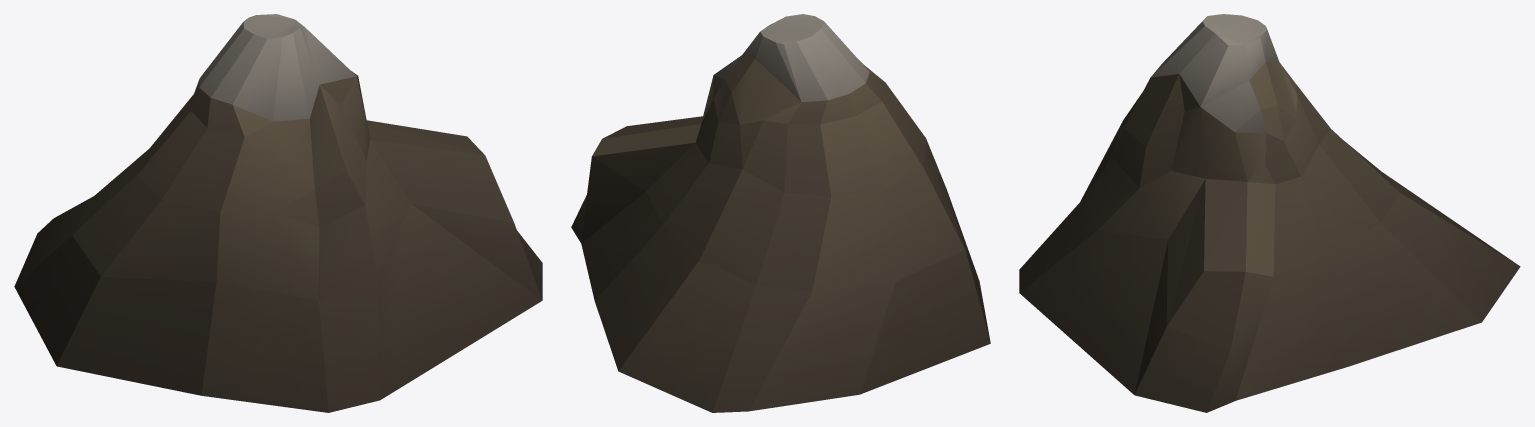
Rendered from Mountain_B.fbx.
3 renders of one model, left to right at view 1: azimuth 30°, elevation 25°; view 2: azimuth 150°, elevation 25°; view 3: azimuth 270°, elevation 25°, orthographic. The views are drawn at different scales.
Parts seen in each view (by area): view 1: Mountain_B; view 2: Mountain_B; view 3: Mountain_B.
Boxes of the visible parts, box(x1,y1,x2,y2) form: Mountain_B: box(14, 14, 542, 412); Mountain_B: box(571, 14, 990, 412); Mountain_B: box(1019, 14, 1520, 412).
Size of the model in its own units: 5346 by 3169 by 5278.
